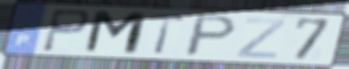7: (293, 16, 333, 63)
M: (81, 9, 151, 58)
P: (181, 14, 240, 58), (39, 7, 92, 54)
T: (147, 13, 190, 56)
Z: (234, 17, 289, 60)
